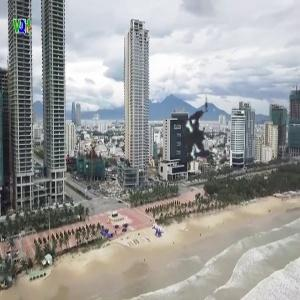drone: (135, 73, 264, 202)
